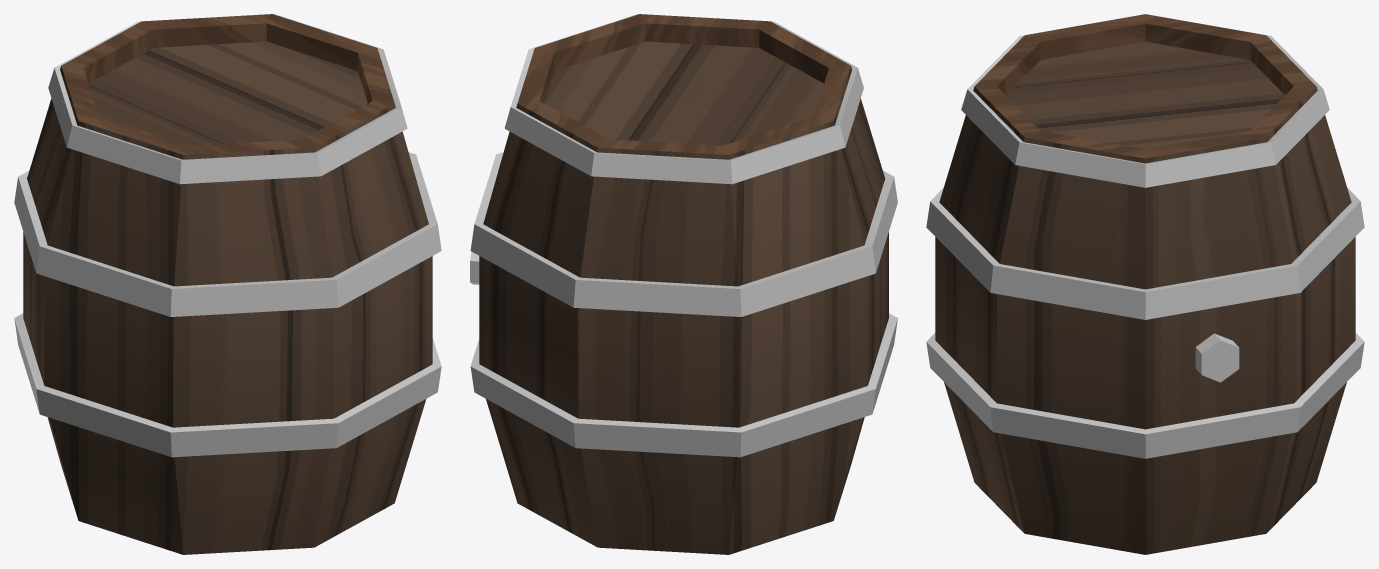
File: Barrel.fbx
3 views of the same model, side by side, from view 1: azimuth 30°, elevation 25°; view 2: azimuth 150°, elevation 25°; view 3: azimuth 270°, elevation 25° (orthographic).
Parts seen in each view (by area): view 1: _Barrel; view 2: _Barrel; view 3: _Barrel.
Part boxes in pixels (x1,y1,x2,y2): _Barrel: (14, 14, 441, 554); _Barrel: (470, 14, 897, 554); _Barrel: (926, 14, 1364, 554).
Bounding box in the file's own units: 91.37 × 91.15 × 91.37.
